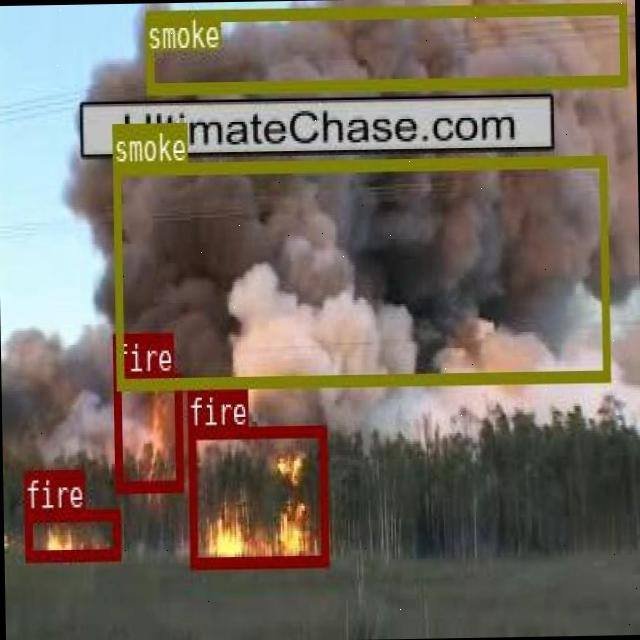fire: (187, 425, 326, 566), (113, 372, 181, 488), (23, 508, 119, 560)
smoke: (112, 153, 609, 388), (144, 3, 626, 91)
